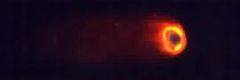keyhole: (169, 32, 183, 46)
